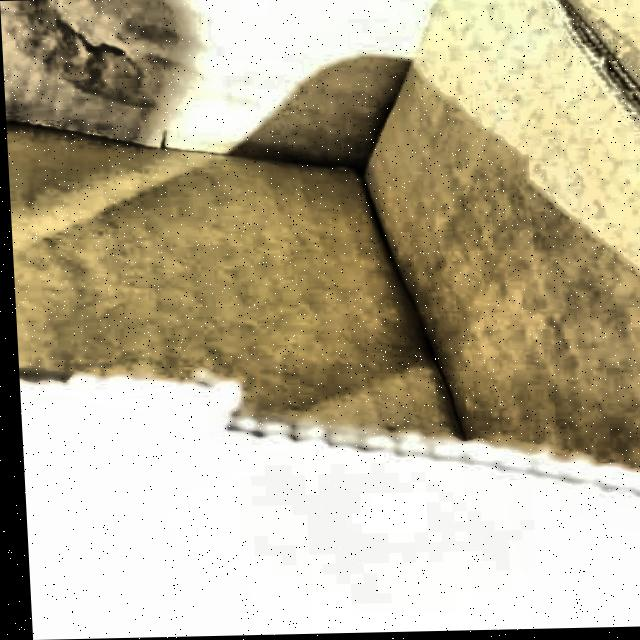cardboard: (2, 0, 640, 515)
